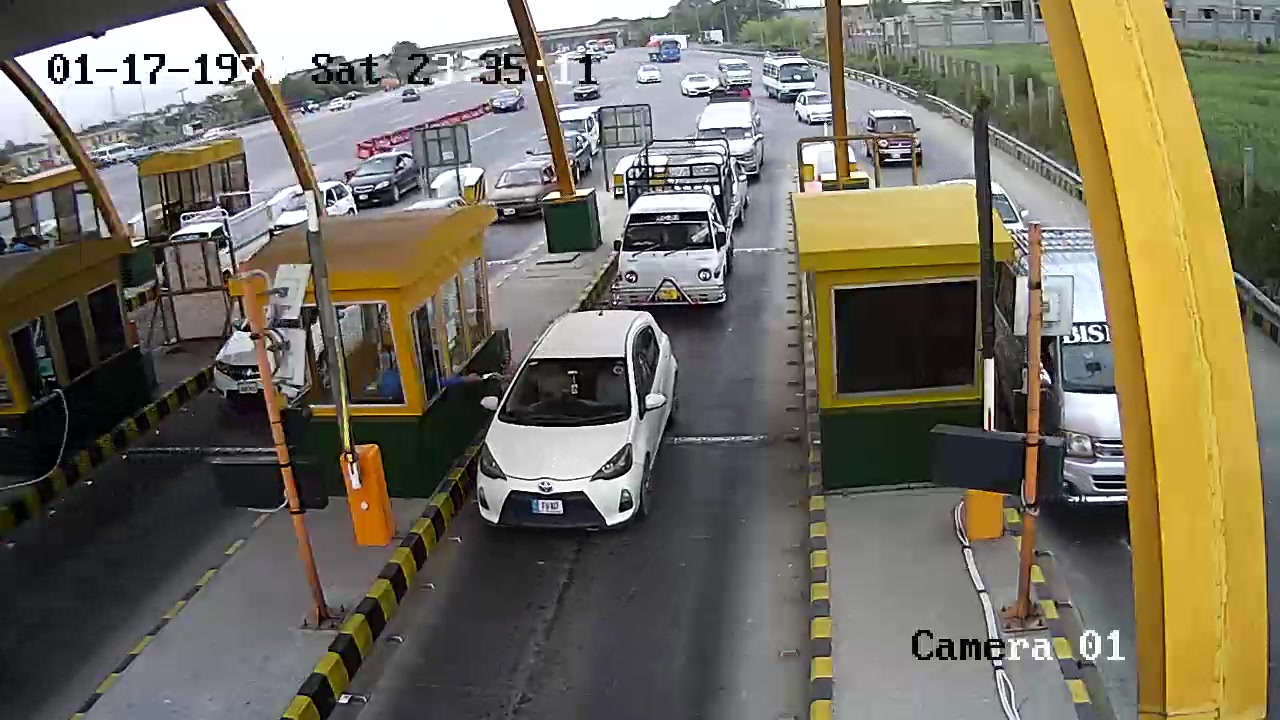F1: (464, 303, 683, 545)
